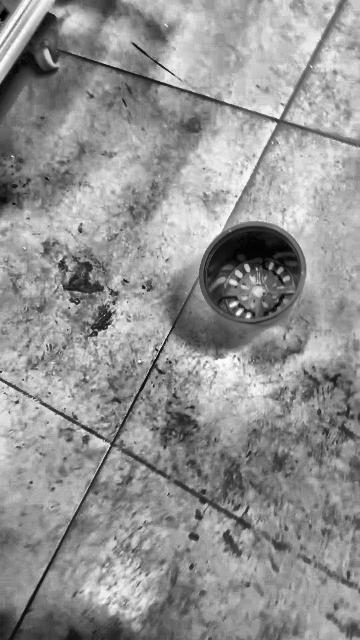pot: (200, 223, 306, 325)
